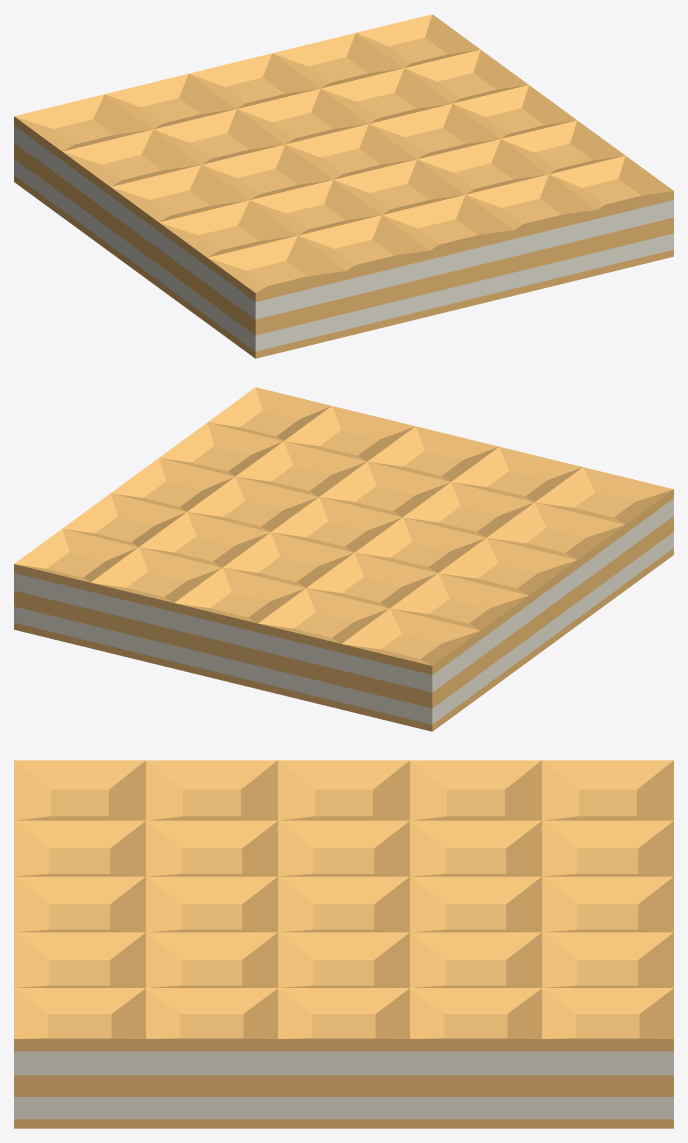
File: Plataforma_Barquillo.glb
The picture shows the model from 3 angles, top to bottom: view 1: azimuth 30°, elevation 25°; view 2: azimuth 150°, elevation 25°; view 3: azimuth 270°, elevation 25°; orthographic projection. The views are drawn at different scales.
Visible parts, largest first — view 1: Barquillo_001; view 2: Barquillo_001; view 3: Barquillo_001.
Boxes of the visible parts, x1,y1,x2,y2 form: Barquillo_001: [14, 14, 673, 358]; Barquillo_001: [14, 387, 673, 731]; Barquillo_001: [14, 760, 673, 1128].
Bounding box in the file's own units: 4 × 0.6 × 4.
